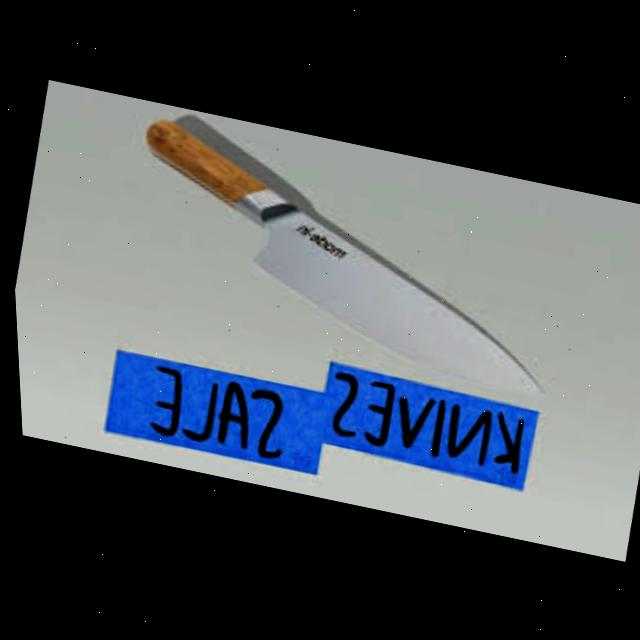Knife: (108, 102, 583, 391)
